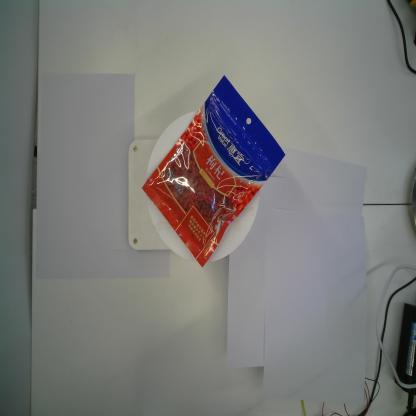Dried Fruit: (142, 74, 286, 268)
